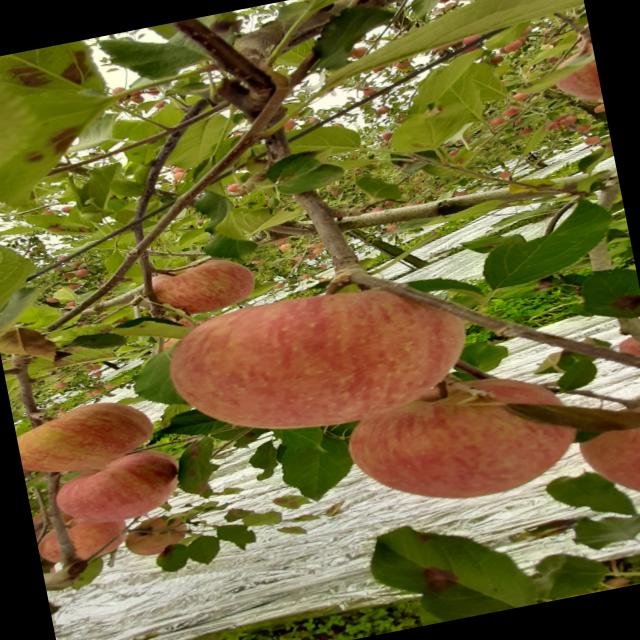fresh: (146, 262, 495, 462), (332, 356, 595, 526), (16, 390, 168, 487)
